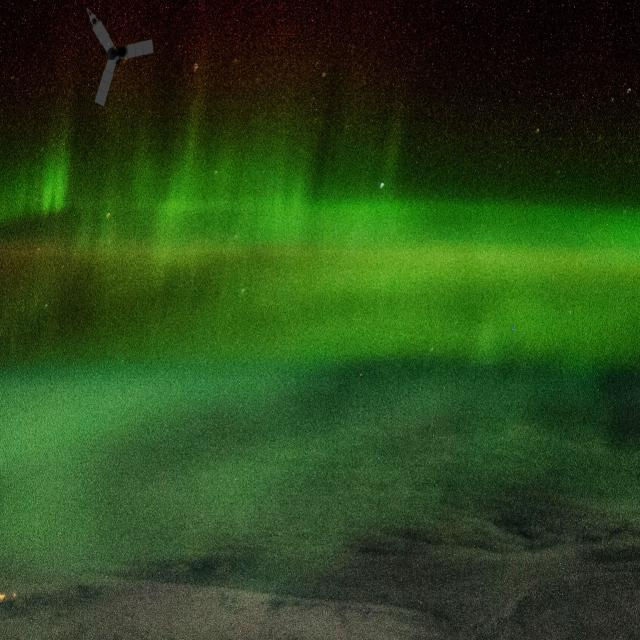satellite: (51, 0, 168, 130)
